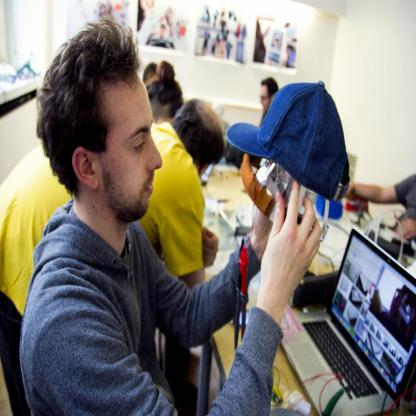board: (280, 228, 416, 416)
